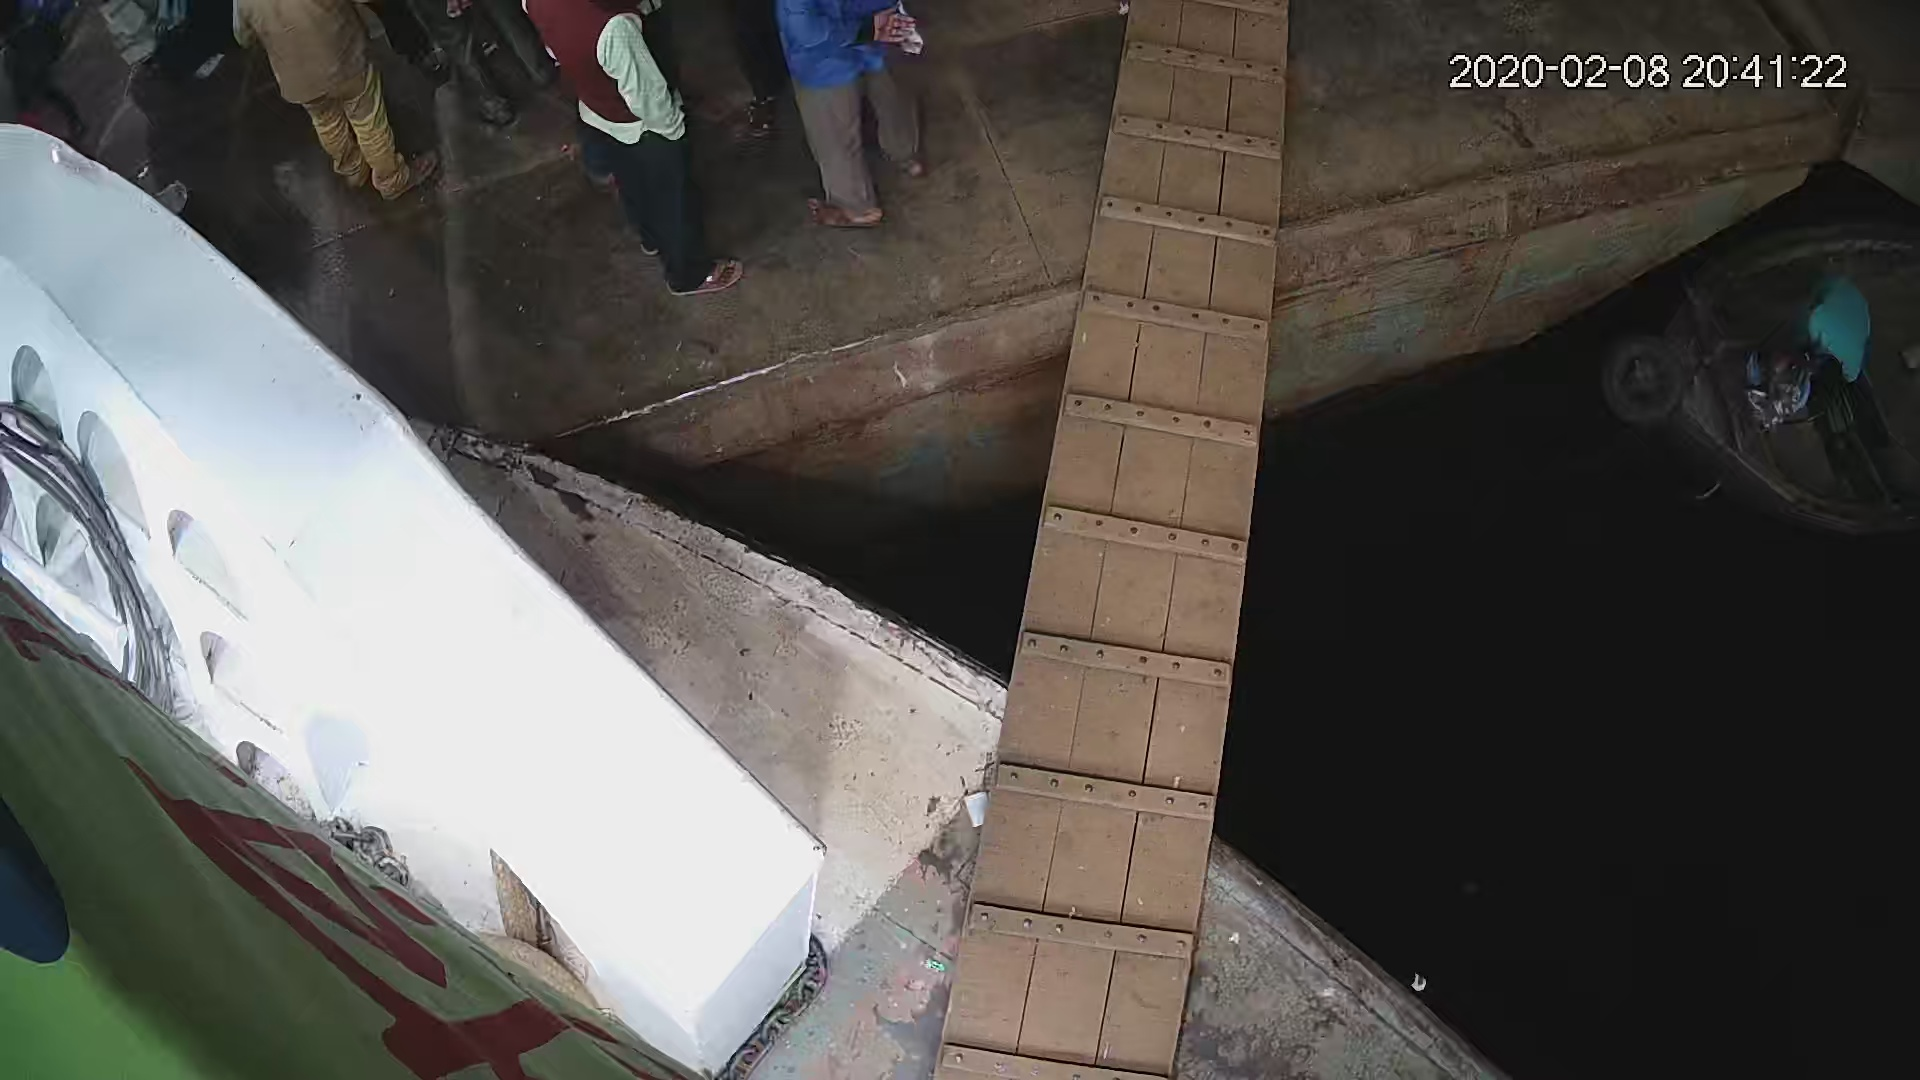person: (541, 1, 731, 295), (225, 5, 433, 207), (1742, 265, 1883, 426)
